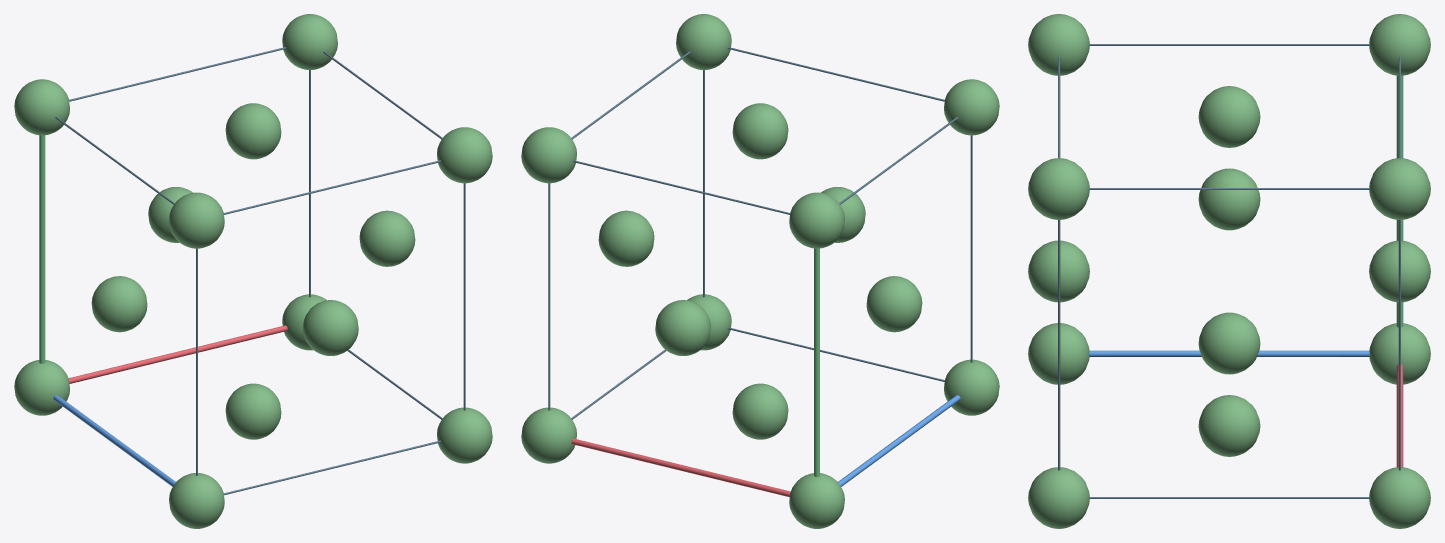
Rendered from nguyen-to-ni.glb.
3 renders of one model, left to right at view 1: azimuth 30°, elevation 25°; view 2: azimuth 150°, elevation 25°; view 3: azimuth 270°, elevation 25°, orthographic. The views are drawn at different scales.
Visible parts, largest first — view 1: Ni · Ni · 1 (×14), Ô mạng và các trục a, b, c; view 2: Ni · Ni · 1 (×14), Ô mạng và các trục a, b, c; view 3: Ni · Ni · 1 (×14), Ô mạng và các trục a, b, c.
Part boxes in pixels (bbox=[...]): Ni · Ni · 1 (×14): bbox=[14, 14, 492, 528]; Ô mạng và các trục a, b, c: bbox=[39, 47, 465, 495]; Ni · Ni · 1 (×14): bbox=[521, 14, 999, 528]; Ô mạng và các trục a, b, c: bbox=[548, 47, 972, 496]; Ni · Ni · 1 (×14): bbox=[1028, 14, 1430, 528]; Ô mạng và các trục a, b, c: bbox=[1058, 44, 1403, 498].
Bounding box in the file's own units: 4.16 × 4.16 × 4.16.
